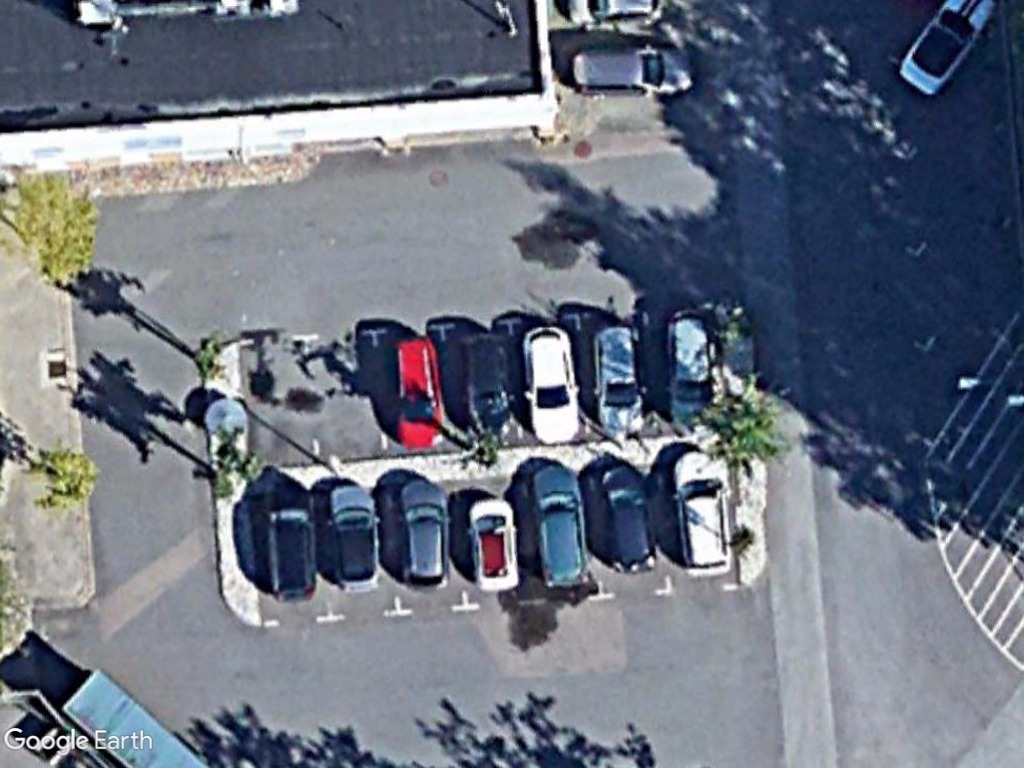car: (664, 445, 738, 580), (529, 456, 595, 595), (253, 479, 324, 608), (517, 321, 584, 448), (594, 460, 662, 579), (659, 302, 722, 429), (587, 320, 652, 441), (566, 42, 700, 98), (393, 473, 453, 597), (388, 330, 448, 453), (321, 481, 385, 595), (464, 492, 525, 596)
